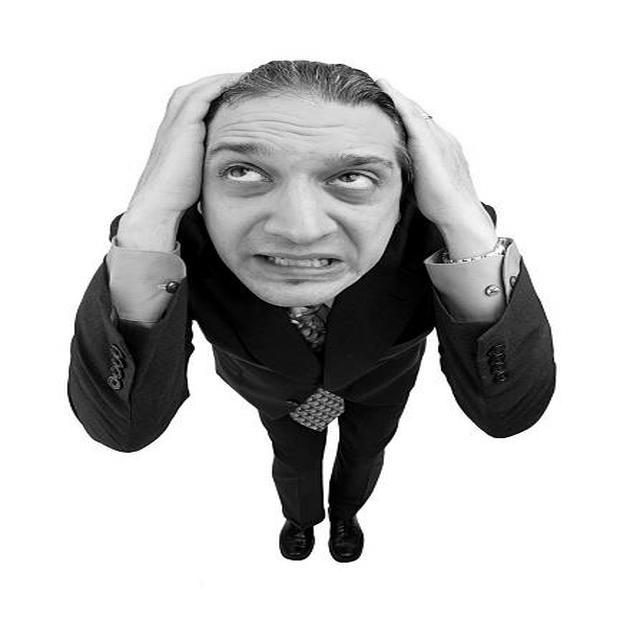Fear: (205, 95, 400, 305)
